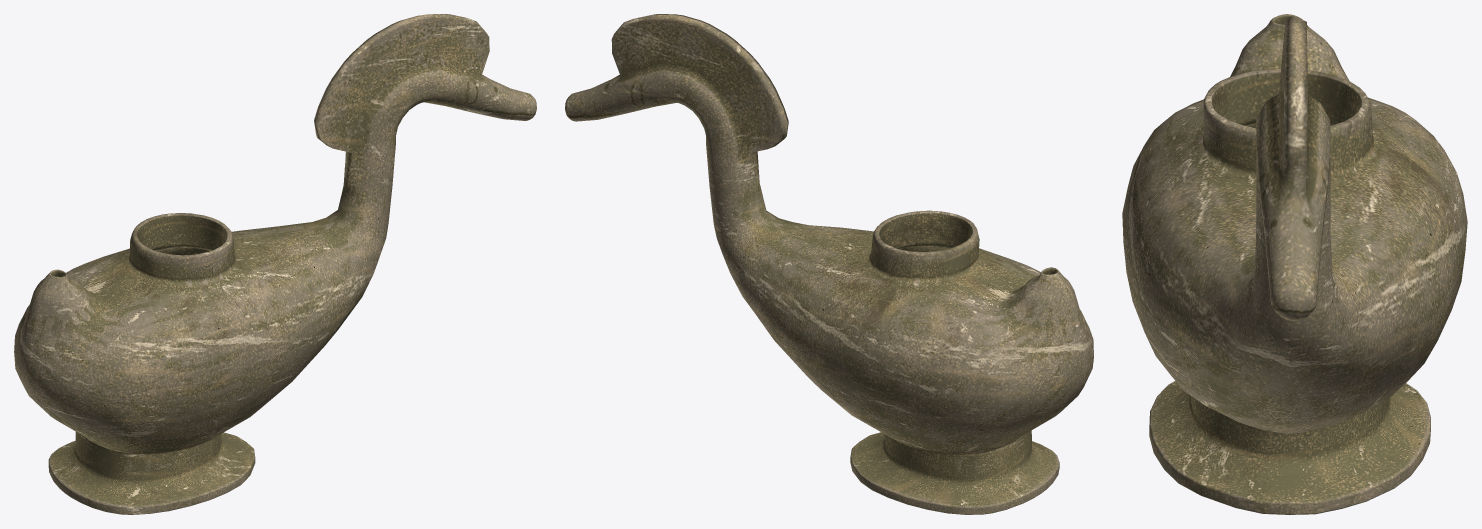
File: duck.glb
The picture shows the model from 3 angles, left to right: view 1: azimuth 30°, elevation 25°; view 2: azimuth 150°, elevation 25°; view 3: azimuth 270°, elevation 25°; orthographic projection. The views are drawn at different scales.
Parts seen in each view (by area): view 1: SM_FO10012_Low; view 2: SM_FO10012_Low; view 3: SM_FO10012_Low.
Part boxes in pixels (left/top/right/bottom): SM_FO10012_Low: left=14, top=14, right=536, bottom=514; SM_FO10012_Low: left=565, top=14, right=1093, bottom=514; SM_FO10012_Low: left=1122, top=14, right=1467, bottom=514.
Size of the model in its own units: 0.4175 by 0.3032 by 0.1547.
Materials: 1 (1 with a texture image).
